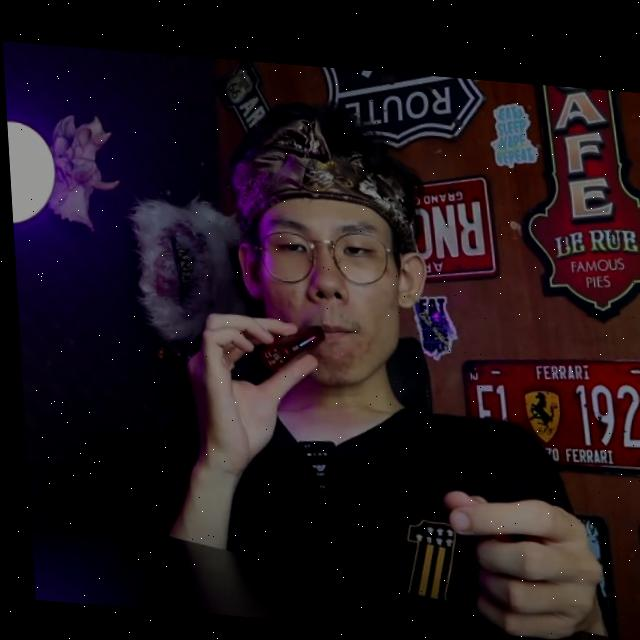vape: (252, 315, 324, 370)
